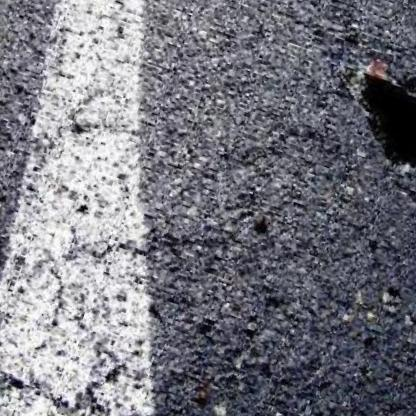pothole: (342, 63, 416, 205)
